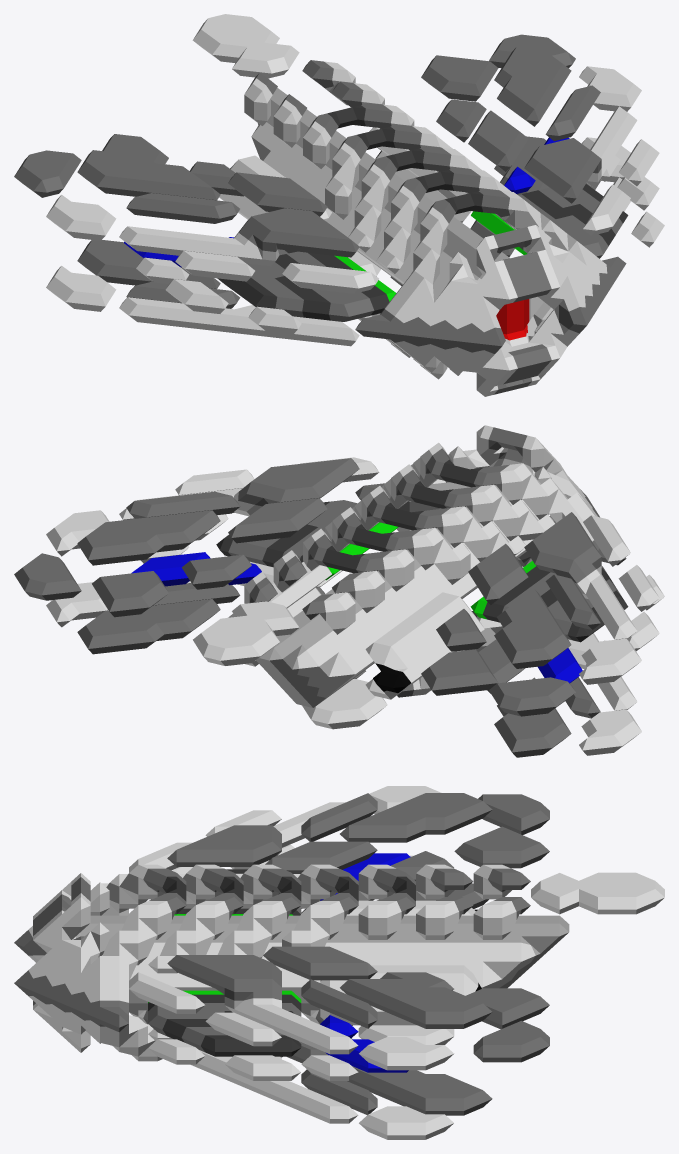
File: ship_kaled_fighter_heavy.fbx
3 views of the same model, one above another, from view 1: azimuth 30°, elevation 25°; view 2: azimuth 150°, elevation 25°; view 3: azimuth 270°, elevation 25° (orthographic). The views are drawn at different scales.
Visible parts, largest first — view 1: ship_kaled_fighter_heavy.mc; view 2: ship_kaled_fighter_heavy.mc; view 3: ship_kaled_fighter_heavy.mc.
Boxes of the visible parts, x1,y1,x2,y2 form: ship_kaled_fighter_heavy.mc: (14,14,664,396); ship_kaled_fighter_heavy.mc: (14,425,664,757); ship_kaled_fighter_heavy.mc: (14,786,664,1139).
Size of the model in its own units: 3400 by 900 by 3400.
